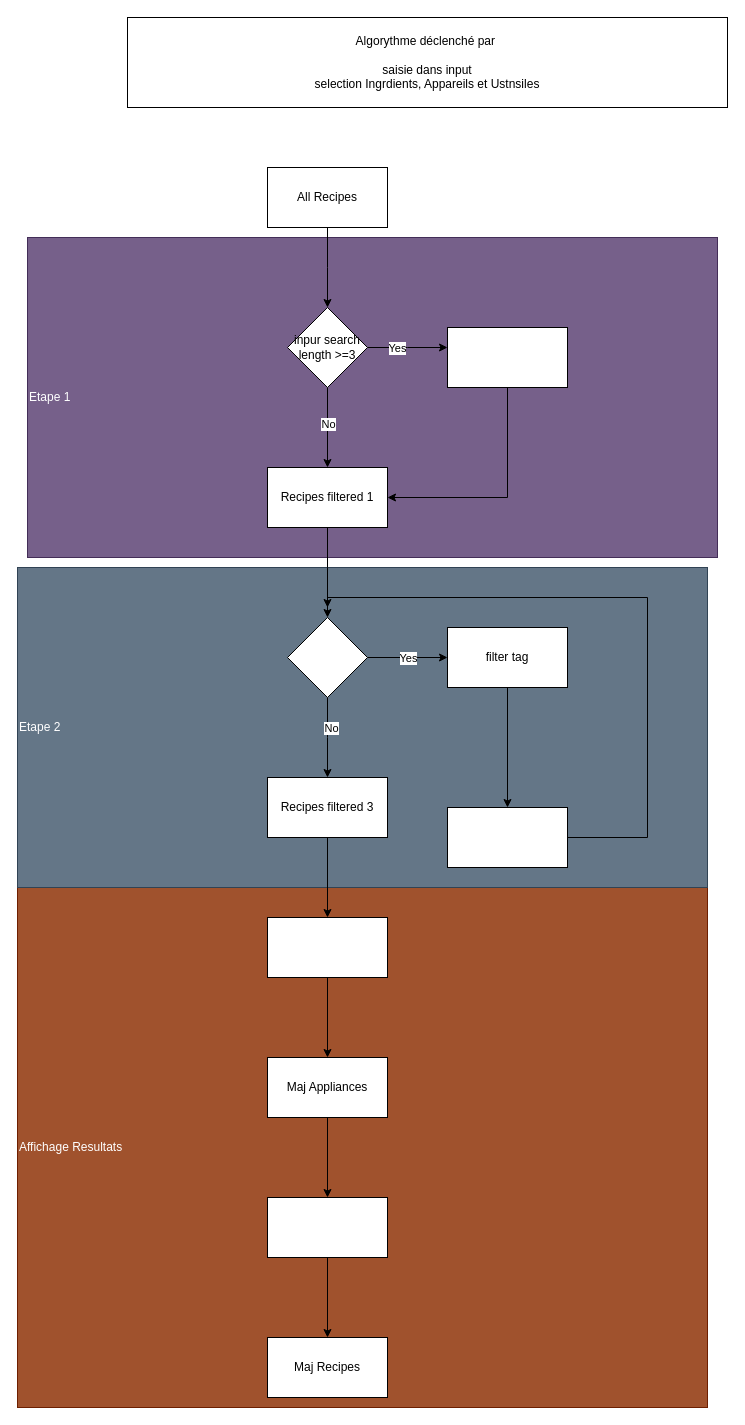
The diagram is 745 pixels wide and 1425 high, and some of its shapes have lost their labels. The centre of each missing label's shape, as x and y in pixels:
Maj Ingrdients: pixel 327 947
Maj Ustensils: pixel 327 1227
Recipes filtered 2: pixel 507 837
Reste Tag ?: pixel 327 657
tri recipes search for input: pixel 507 357
